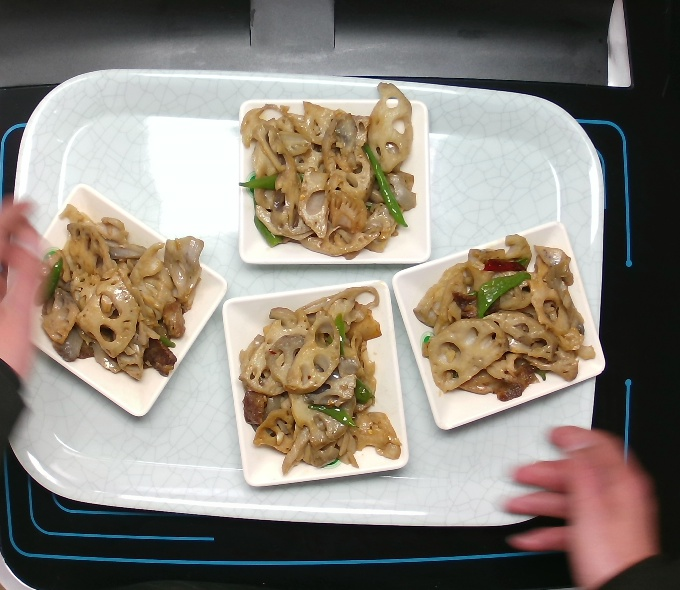wcq-OuPianChaoRou: (408, 229, 585, 400), (241, 94, 418, 265), (229, 295, 406, 466), (38, 202, 202, 374)
